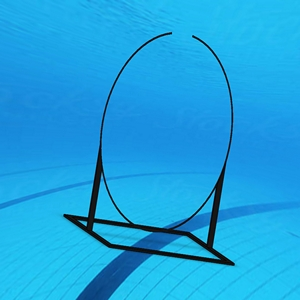circle: (63, 30, 237, 268)
